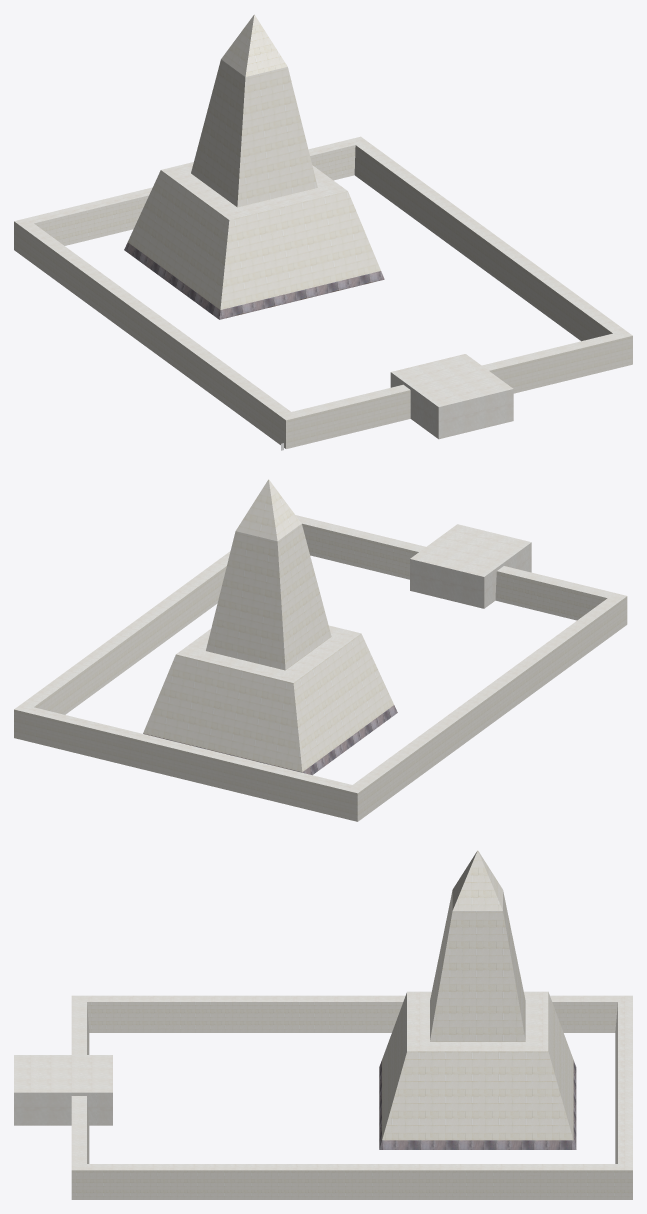
The model's file is SolarTemple_Niuserre.glb.
The picture shows the model from 3 angles, top to bottom: view 1: azimuth 30°, elevation 25°; view 2: azimuth 150°, elevation 25°; view 3: azimuth 270°, elevation 25°; orthographic projection. The views are drawn at different scales.
Visible parts, largest first — view 1: Mesh1 Model, Mesh2 Model; view 2: Mesh1 Model, Mesh2 Model; view 3: Mesh1 Model, Mesh2 Model.
Part boxes in pixels (x1=…): Mesh1 Model: x1=14, y1=136, x2=632, y2=448; Mesh2 Model: x1=124, y1=14, x2=384, y2=319; Mesh1 Model: x1=14, y1=515, x2=627, y2=821; Mesh2 Model: x1=143, y1=479, x2=397, y2=775; Mesh1 Model: x1=14, y1=995, x2=632, y2=1199; Mesh2 Model: x1=379, y1=850, x2=576, y2=1149.
Bounding box in the file's own units: 83.08 × 56.5 × 123.
6 materials, 5 textured.
